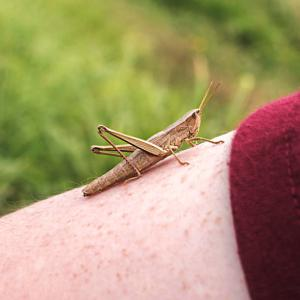locust: (73, 66, 223, 195)
